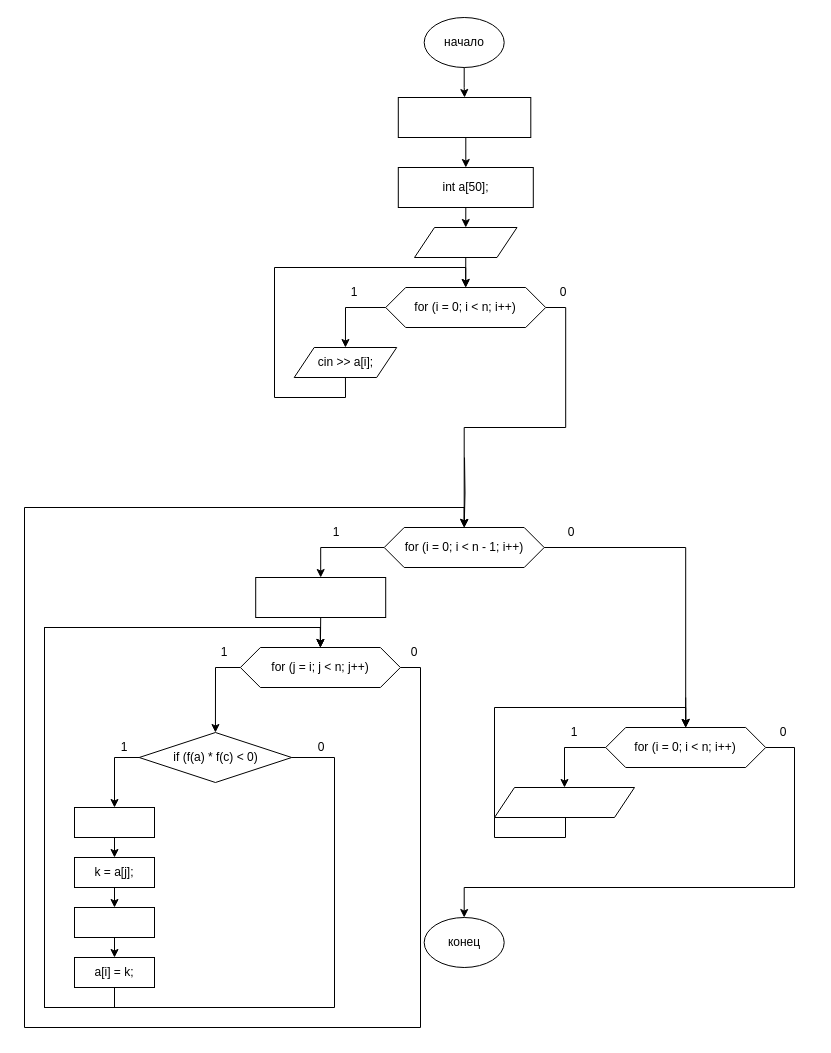
The diagram is 831 pixels wide and 1053 high, and some of its shapes have lost their labels. The centre of each missing label's shape, as x and y in pixels:
a[j] = a[i];: point 114,922
cin >> n;: point 465,242
cout << a[i]<<" ";: point 564,802
int i, n, j, min, k;: point 464,117
min = a[i];: point 320,597
min = a[j];: point 114,822
